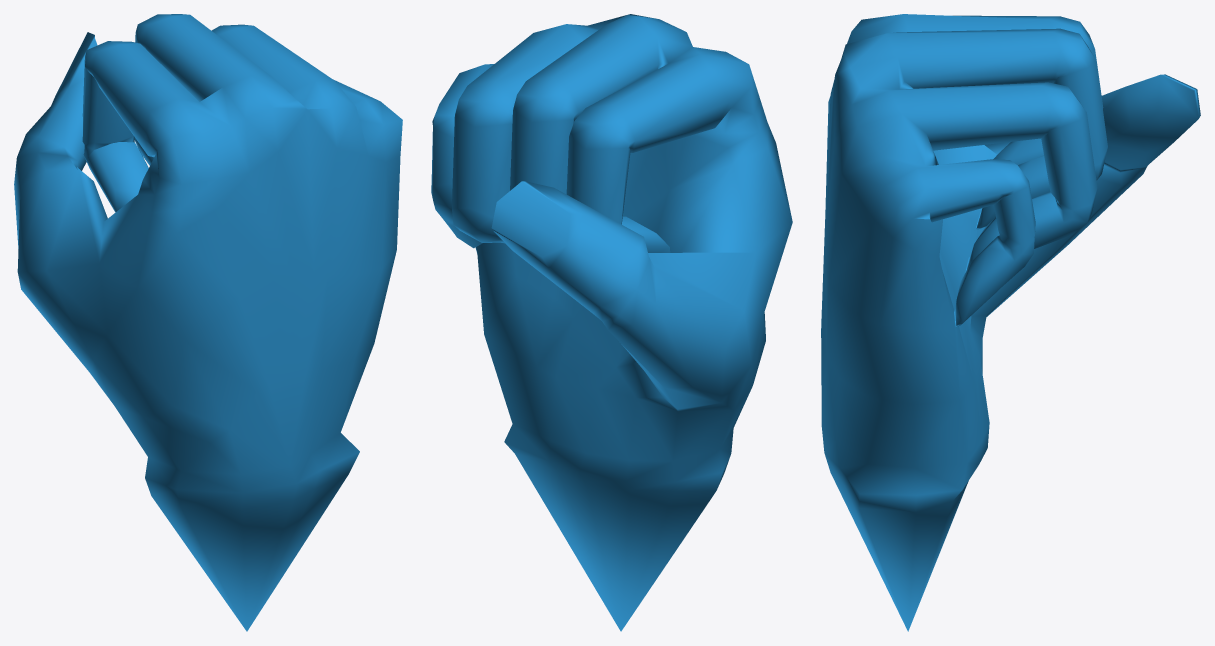
Rendered from Hand_guu_A.obj.
3 views of the same model, side by side, from view 1: azimuth 30°, elevation 25°; view 2: azimuth 150°, elevation 25°; view 3: azimuth 270°, elevation 25° (orthographic). The views are drawn at different scales.
Visible parts, largest first — view 1: Hand_guu_A_MDL; view 2: Hand_guu_A_MDL; view 3: Hand_guu_A_MDL.
Part boxes in pixels (box(x1,y1,x2,y2)): Hand_guu_A_MDL: box(14, 14, 402, 631); Hand_guu_A_MDL: box(431, 14, 792, 631); Hand_guu_A_MDL: box(821, 14, 1200, 631).
Bounding box in the file's own units: 7.26 × 12.4 × 7.16.
Materials: 1 (1 with a texture image).
